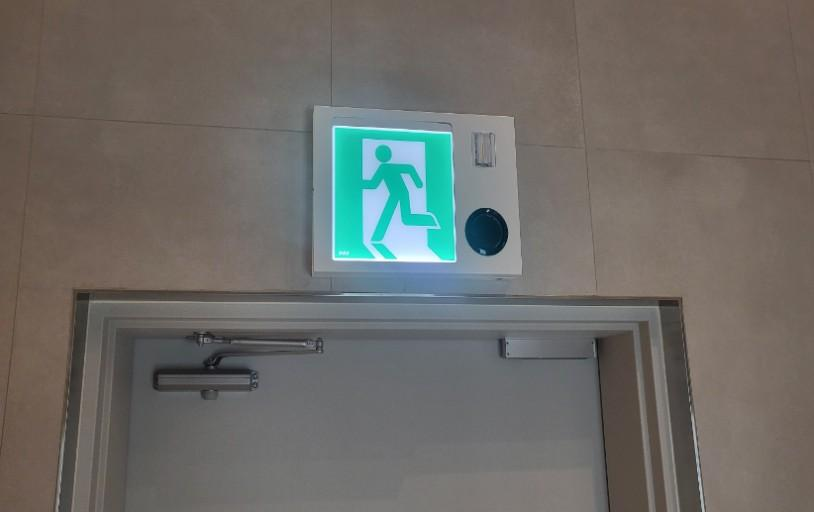emergency_exit: (311, 104, 523, 279)
